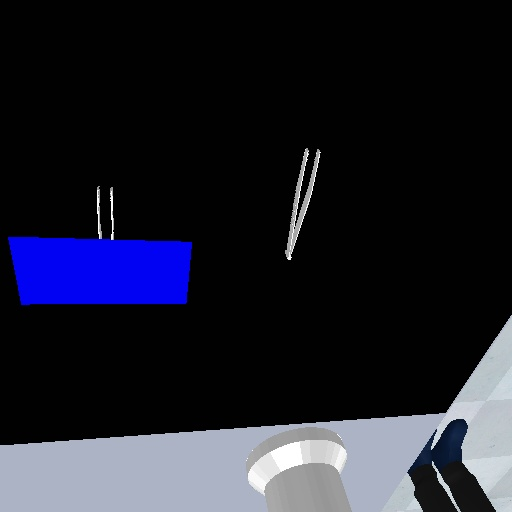pinza: (280, 143, 323, 263), (93, 181, 117, 240)
